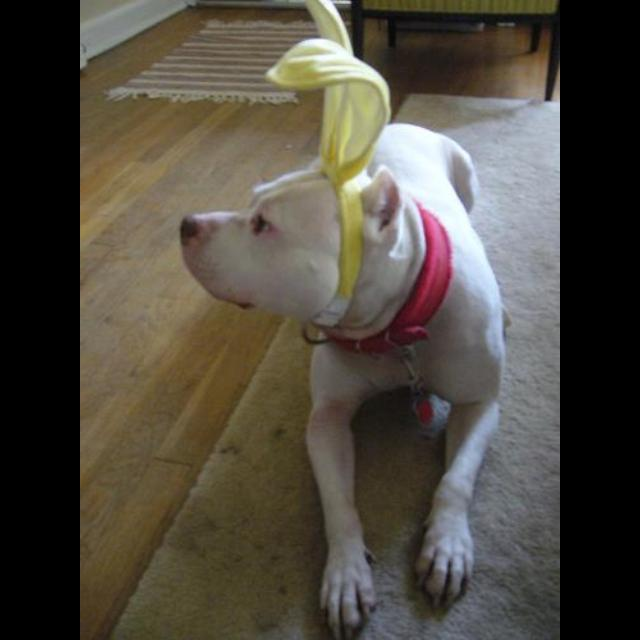amstaff: (178, 1, 512, 639)
